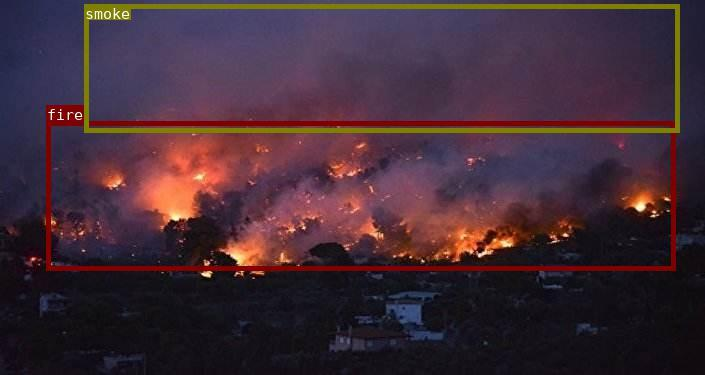fire: (45, 121, 674, 269)
smoke: (84, 4, 679, 131)
